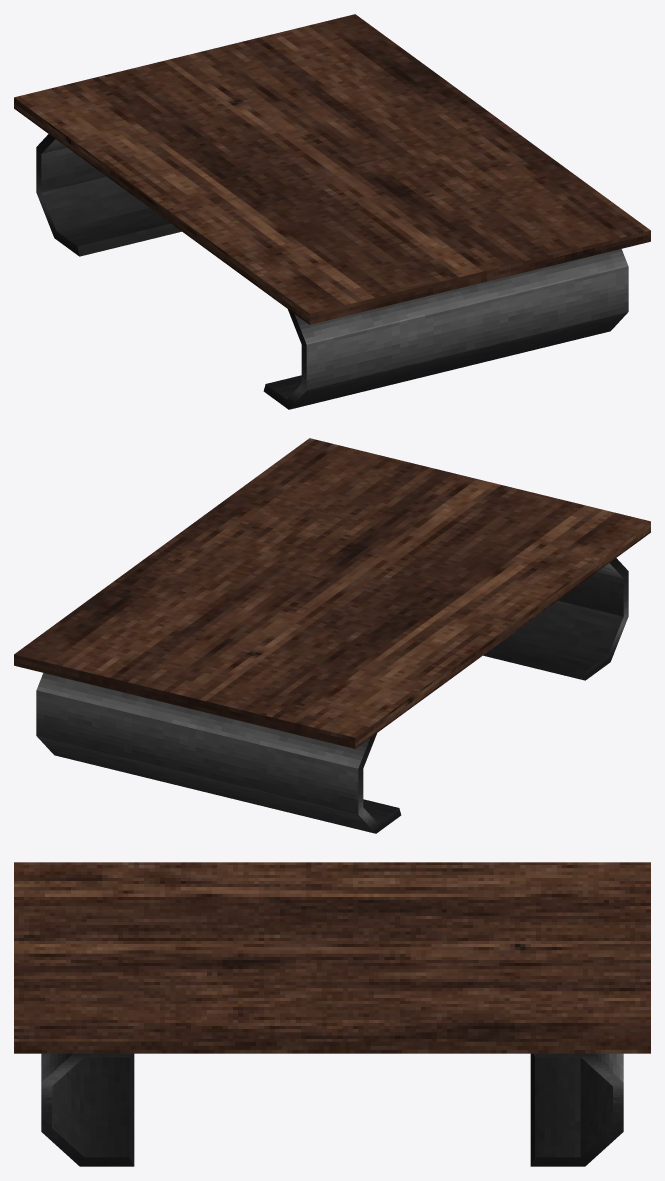
The model's file is coffeeTableShort.fbx.
3 renders of one model, top to bottom at view 1: azimuth 30°, elevation 25°; view 2: azimuth 150°, elevation 25°; view 3: azimuth 270°, elevation 25°, orthographic. The views are drawn at different scales.
Visible parts, largest first — view 1: coffeeTable, Cylinder, Cylinder.001; view 2: coffeeTable, Cylinder.001, Cylinder; view 3: coffeeTable, Cylinder, Cylinder.001.
Part boxes in pixels (box(x1,y1,x2,y2)): coffeeTable: box(14, 14, 650, 324); Cylinder: box(263, 249, 628, 409); Cylinder.001: box(36, 134, 181, 256); coffeeTable: box(14, 438, 650, 748); Cylinder.001: box(36, 673, 401, 833); Cylinder: box(483, 558, 628, 680); coffeeTable: box(14, 862, 650, 1053); Cylinder: box(41, 1053, 134, 1166); Cylinder.001: box(530, 1053, 623, 1166).
Bounding box in the file's own units: 80 × 27.06 × 120.
1 material, 1 textured.
